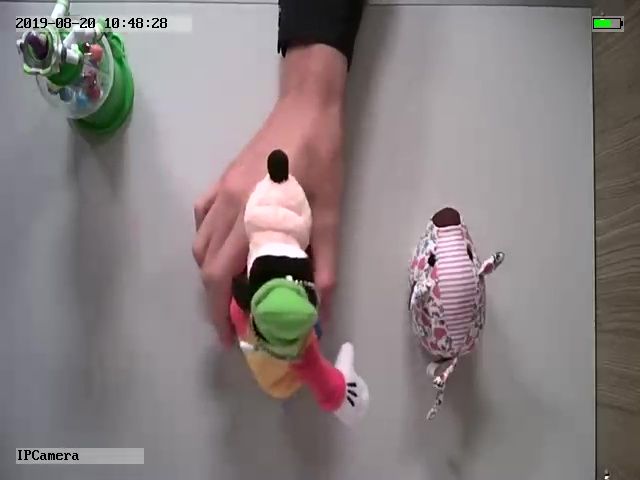buzz: (13, 1, 138, 129)
goofy: (226, 147, 372, 427)
pig: (402, 204, 507, 421)
